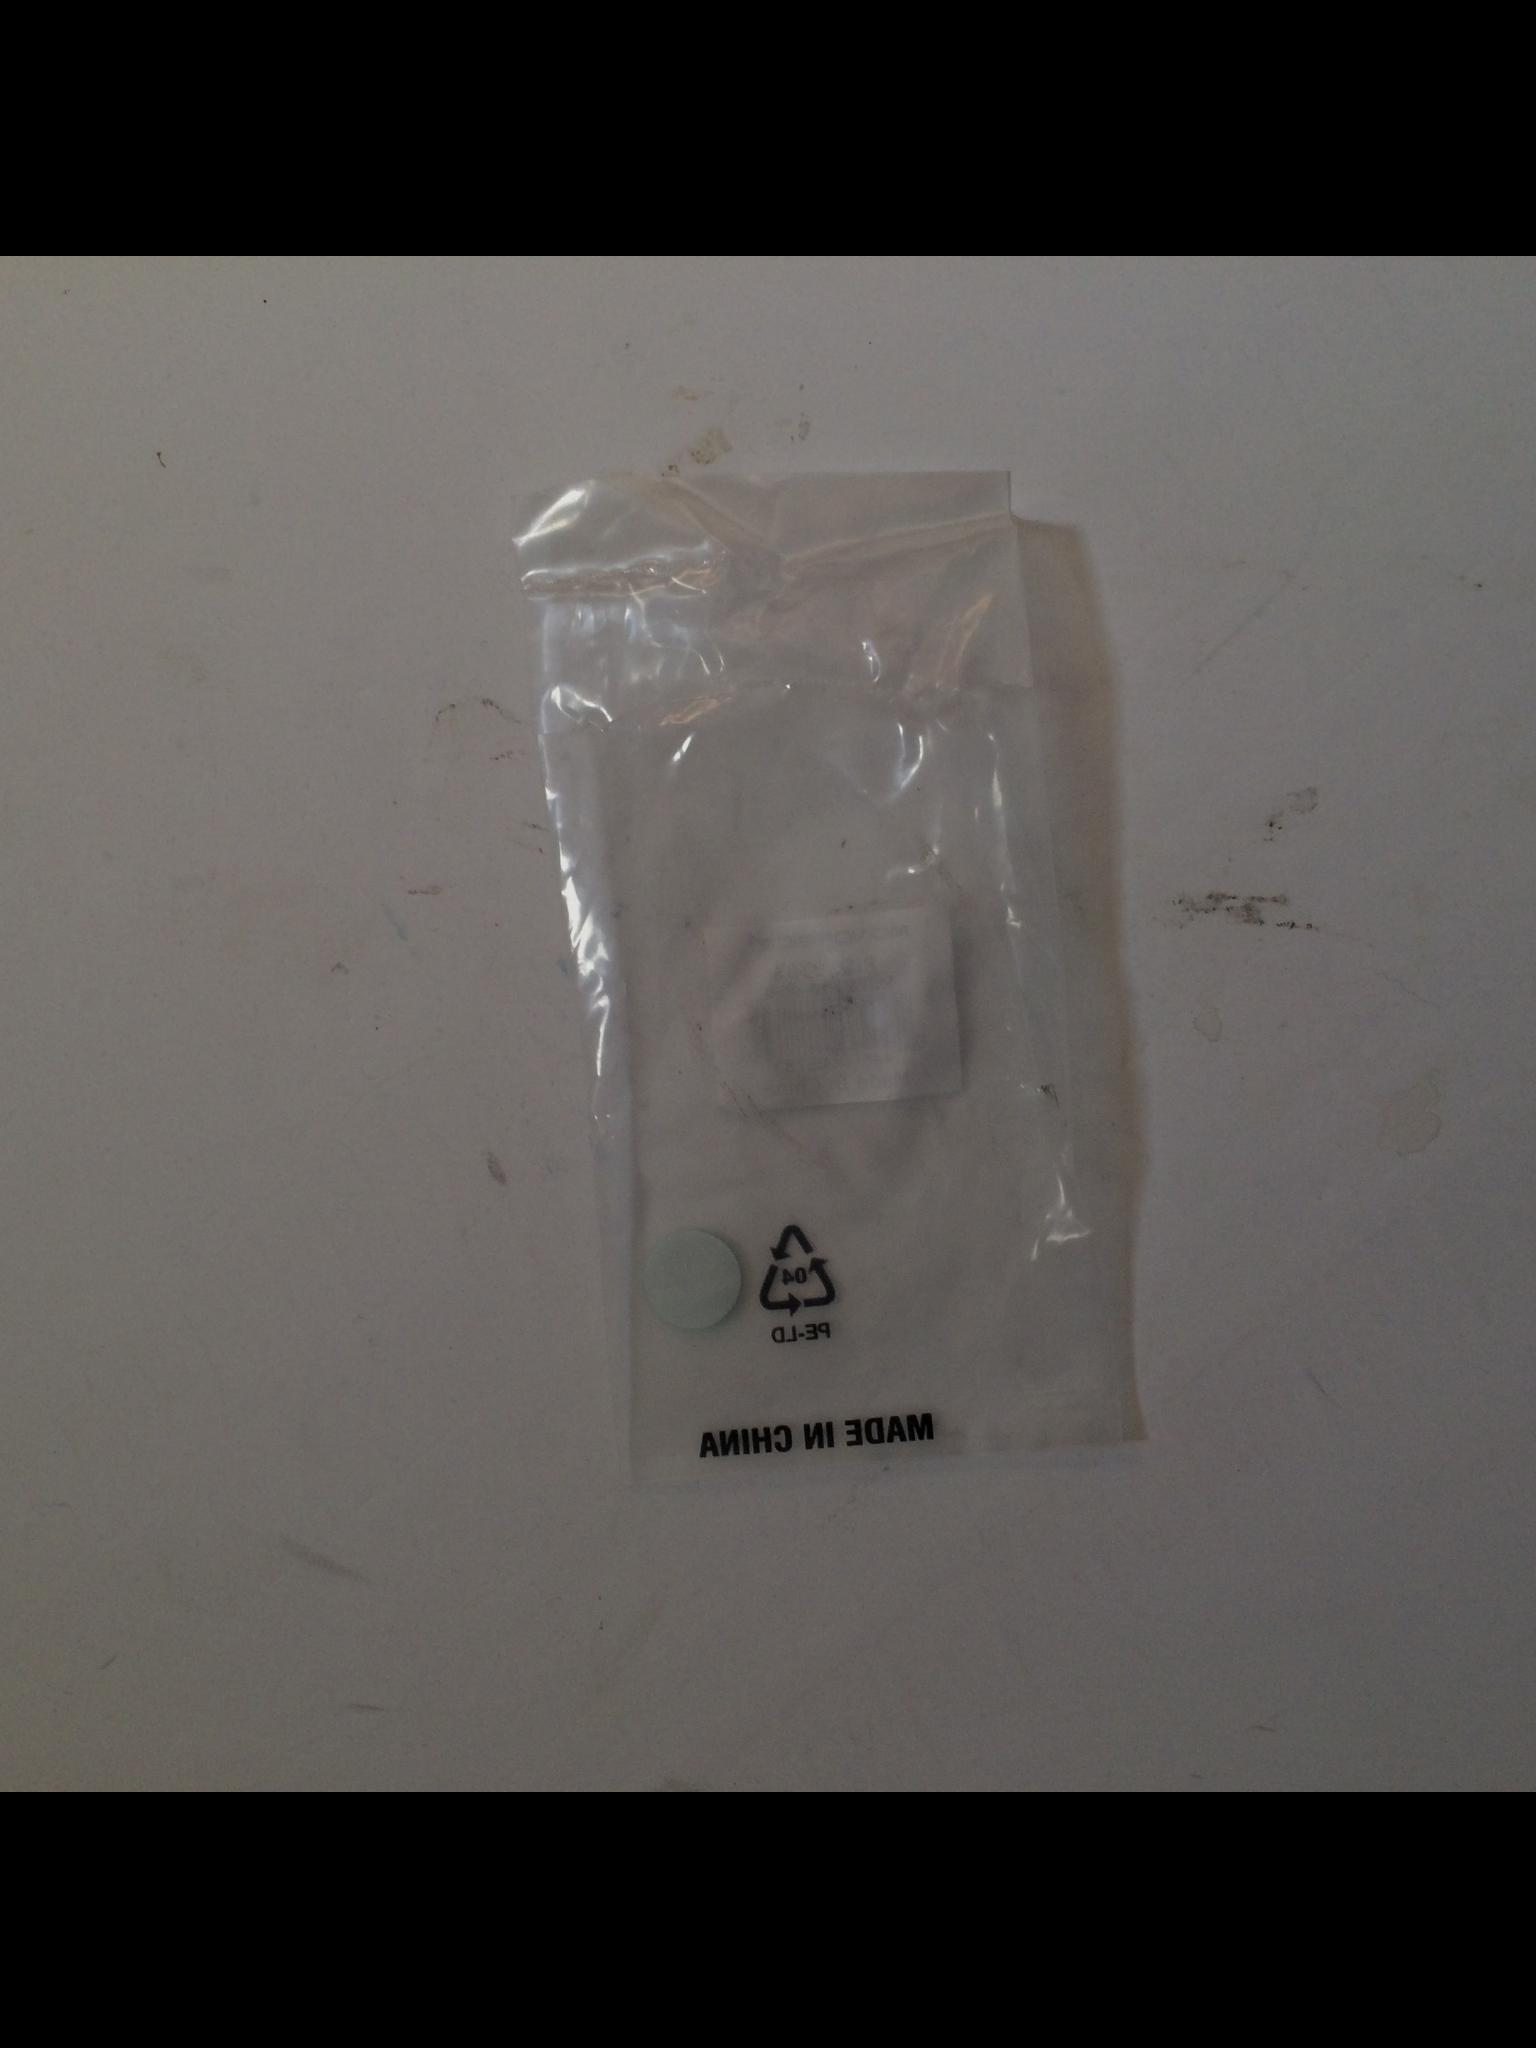Plastic: (474, 421, 1179, 1572)
